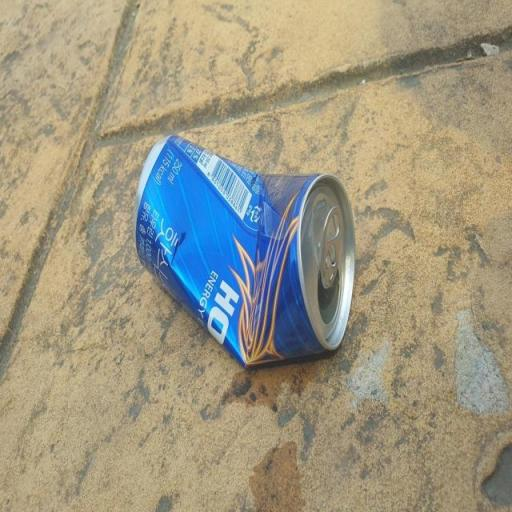metal: (118, 81, 387, 421)
